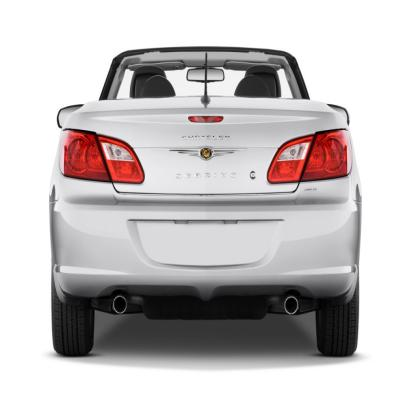Vehicle: (49, 46, 362, 356)
